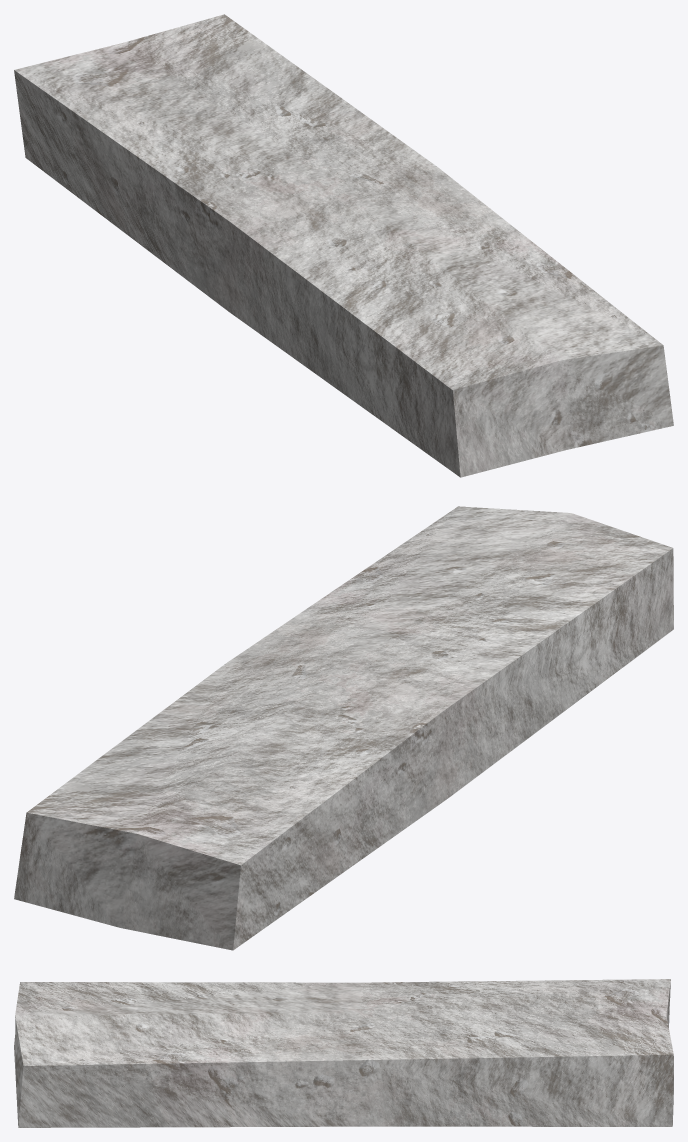
Rendered from step3_LOD2.FBX.
3 renders of one model, top to bottom at view 1: azimuth 30°, elevation 25°; view 2: azimuth 150°, elevation 25°; view 3: azimuth 270°, elevation 25°, orthographic. The views are drawn at different scales.
Visible parts, largest first — view 1: step3_LOD2; view 2: step3_LOD2; view 3: step3_LOD2.
Boxes of the visible parts, x1,y1,x2,y2 form: step3_LOD2: (14, 14, 673, 477); step3_LOD2: (14, 506, 673, 950); step3_LOD2: (14, 979, 673, 1127).
Bounding box in the file's own units: 50.9 × 21.65 × 173.
